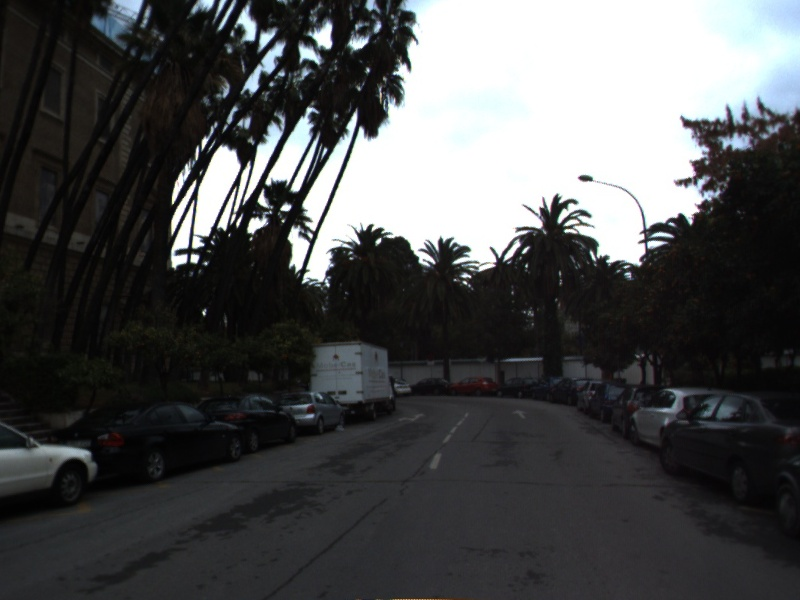STRAIGHT: (510, 407, 530, 421)
STRAIGHT_LEFT: (396, 411, 428, 424)
